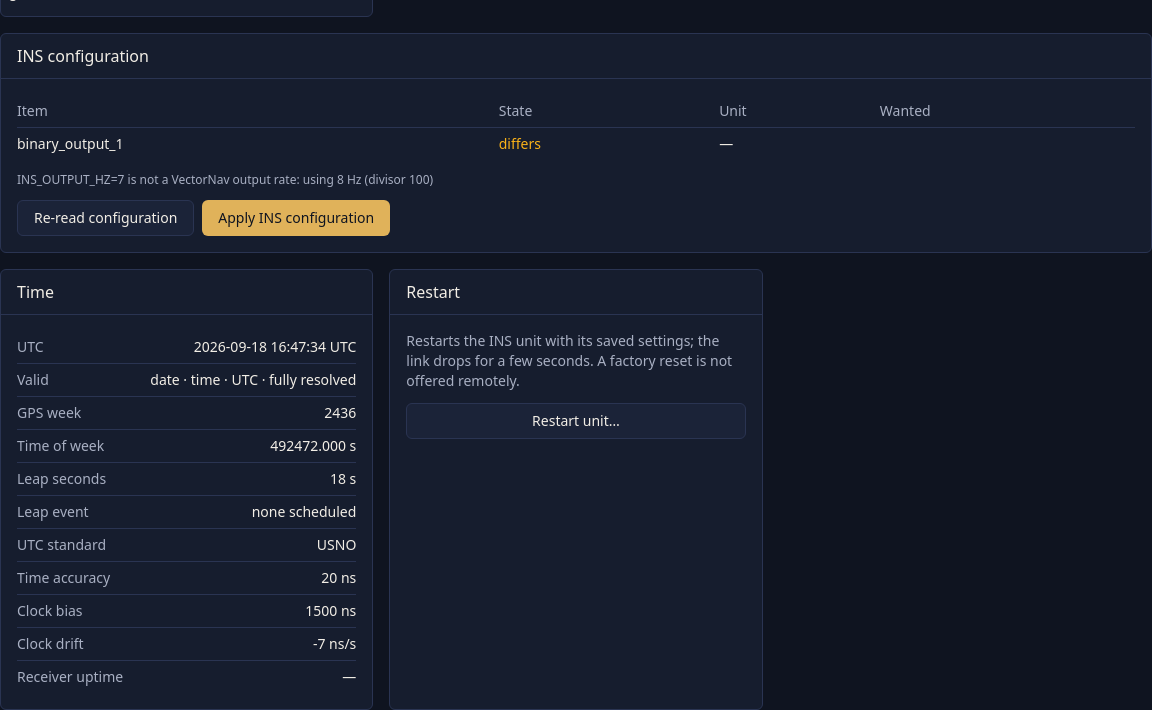
Test: Receiver page on an INS rover › restarts the unit after a confirmation
(page scrolled)
Click the button "Restart unit…". click: coordinates (576, 421)
box: [406,403,746,439]
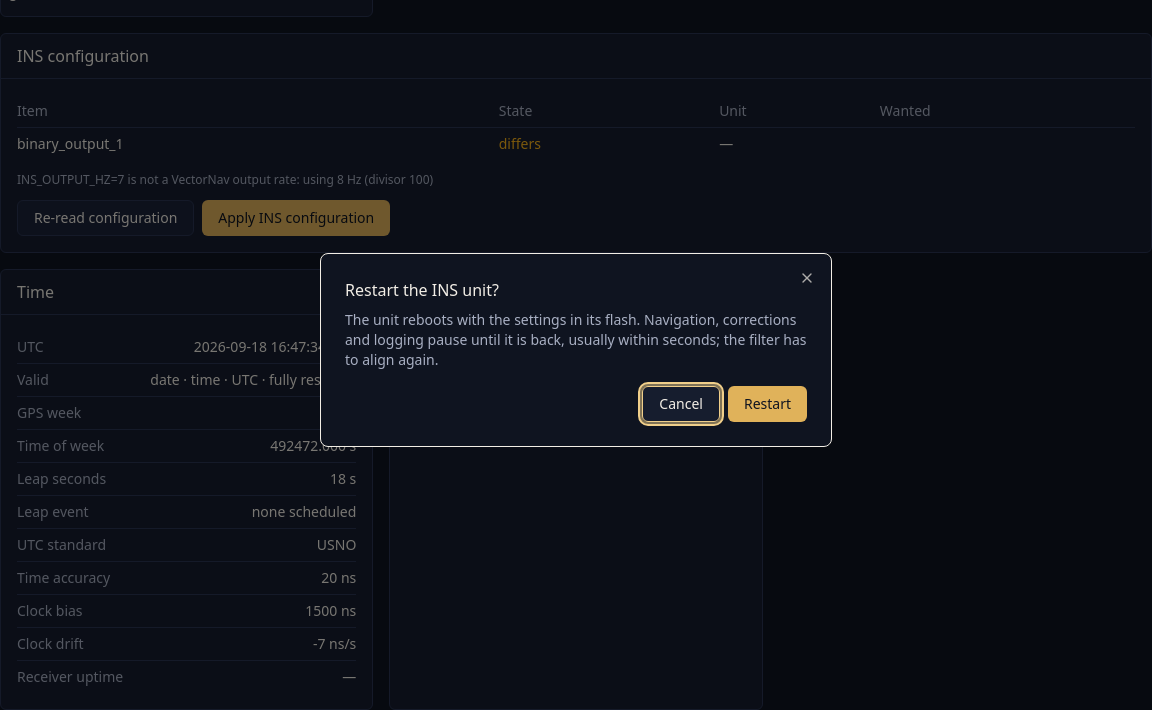
Click the button "Restart". click: coordinates (767, 404)
box: [728,386,807,422]
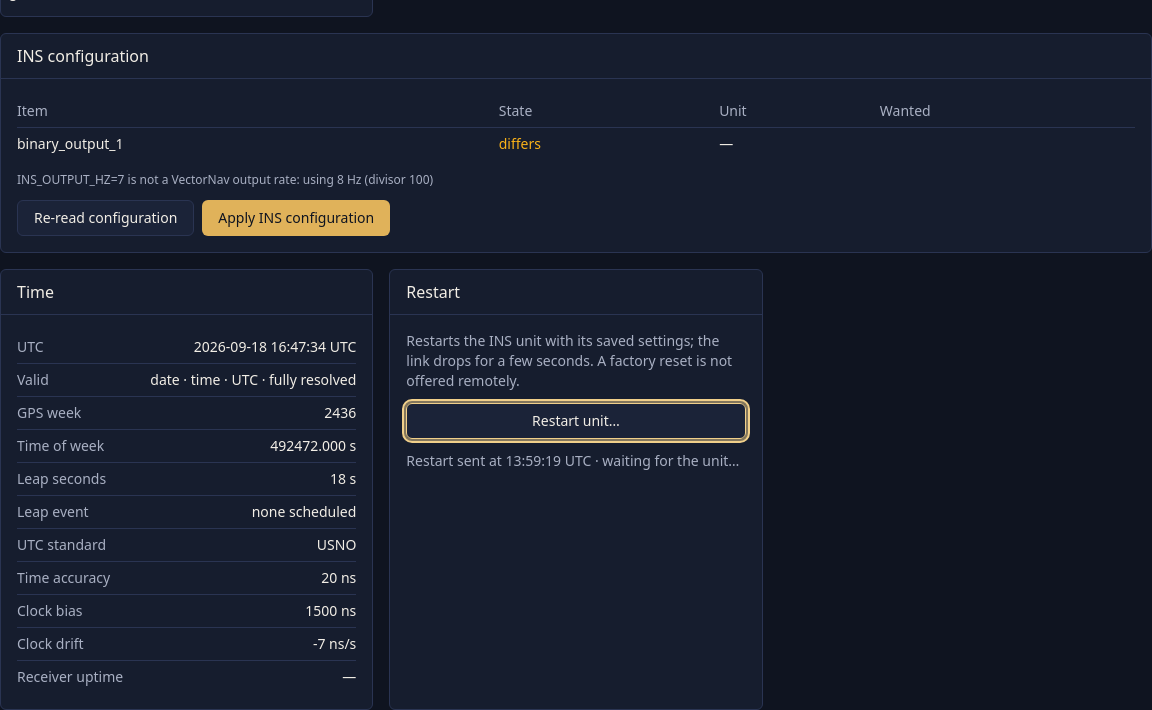
expect the message named "Reset progress" shows "Restart sent": met, box [406,451,506,470]
